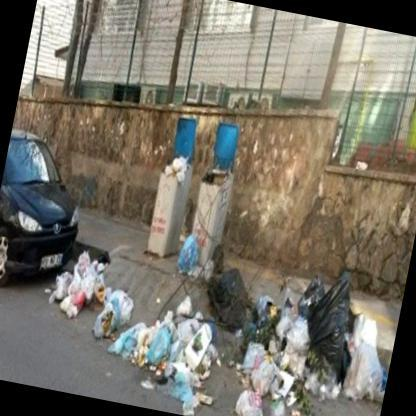Garbage: (229, 262, 392, 415), (337, 323, 393, 405), (52, 254, 112, 322), (180, 321, 222, 412), (82, 283, 142, 345), (159, 309, 200, 383), (245, 338, 287, 394), (104, 322, 143, 370), (132, 324, 162, 374), (179, 323, 209, 369), (224, 388, 269, 415), (57, 287, 86, 323), (175, 240, 202, 270), (184, 258, 213, 282), (166, 155, 190, 181)
